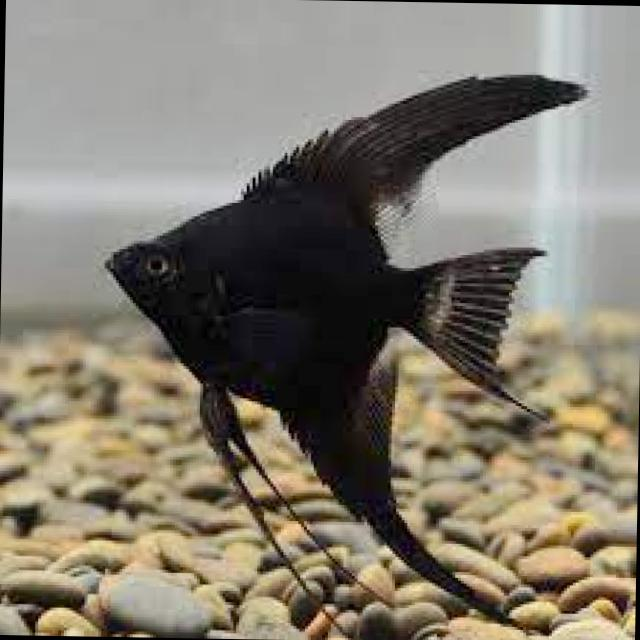AngelFish: (100, 62, 590, 631)
